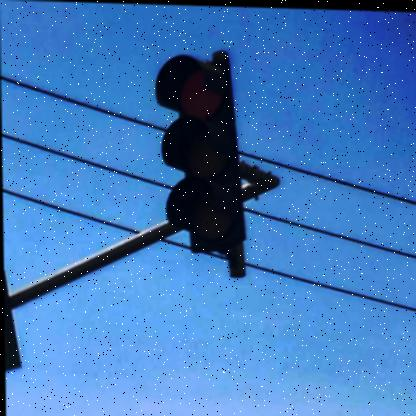Traffic Light -Red-: (153, 53, 246, 251)
